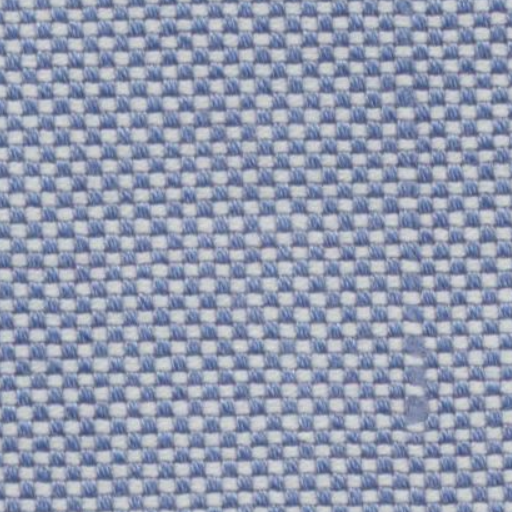TuoSha: (360, 94, 458, 390)
